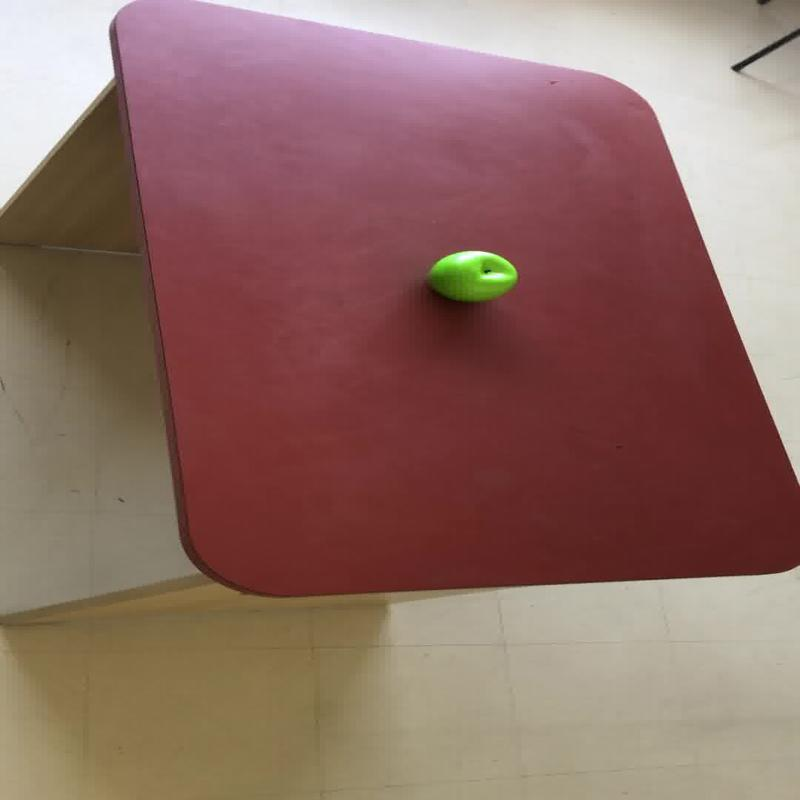apple: (425, 249, 517, 302)
